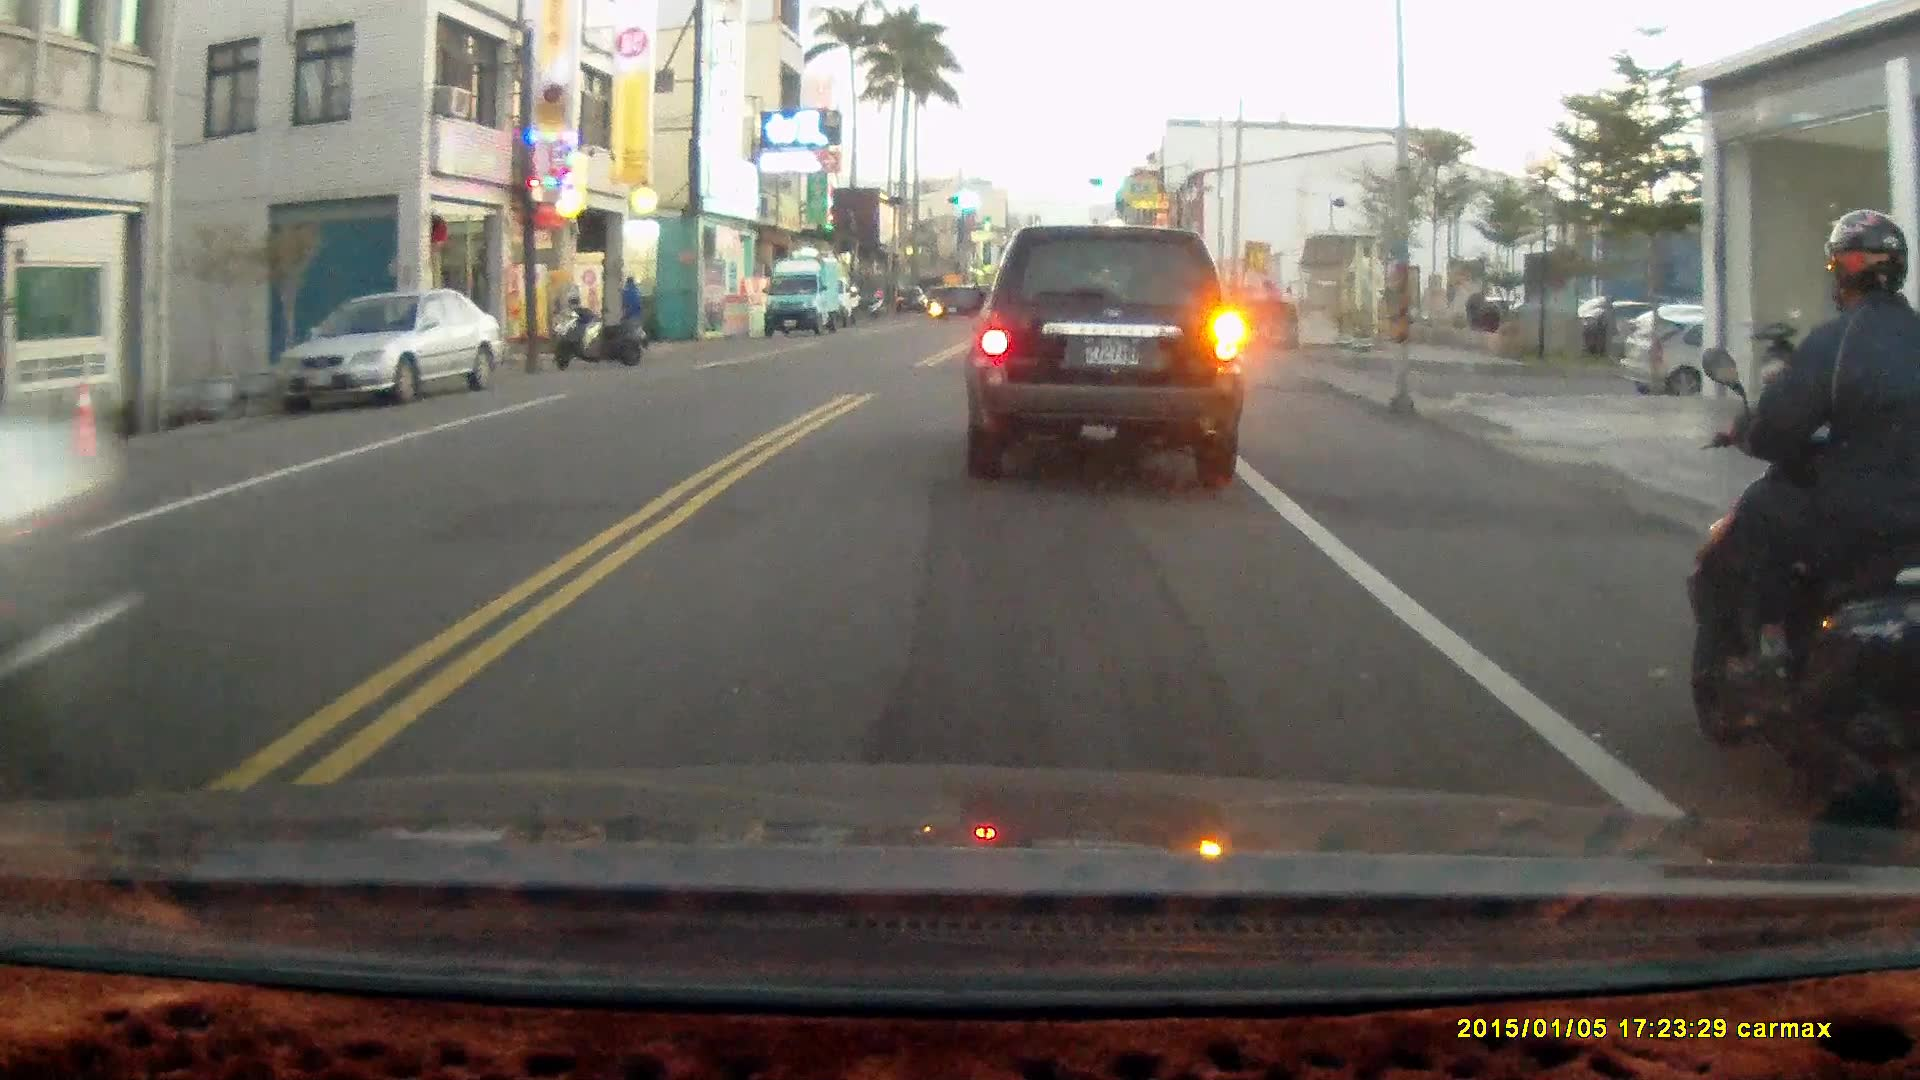pedestrian: (617, 273, 647, 357)
rider: (1675, 205, 1920, 851)
vehicle: (973, 223, 1249, 492), (1, 416, 145, 796), (273, 288, 504, 408), (1625, 317, 1847, 401), (763, 258, 848, 344)
